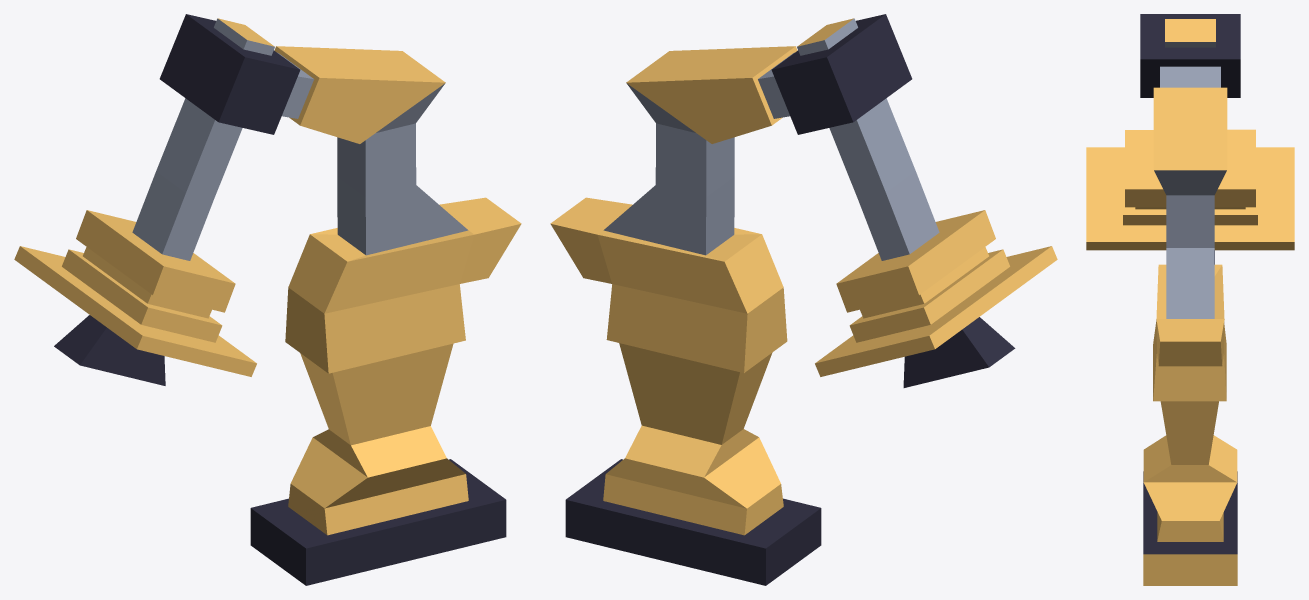
Rendered from Mach-4.FBX.
3 views of the same model, side by side, from view 1: azimuth 30°, elevation 25°; view 2: azimuth 150°, elevation 25°; view 3: azimuth 270°, elevation 25° (orthographic). The views are drawn at different scales.
Visible parts, largest first — view 1: Box004, Machine2Handle; view 2: Box004, Machine2Handle; view 3: Box004, Machine2Handle.
Boxes of the visible parts, x1,y1,x2,y2 form: Box004: (159, 14, 521, 585); Machine2Handle: (14, 18, 274, 385); Box004: (550, 14, 912, 585); Machine2Handle: (797, 18, 1057, 387); Box004: (1140, 14, 1240, 585); Machine2Handle: (1086, 19, 1294, 264).
Size of the model in its own units: 5.39 by 6.48 by 2.63.
